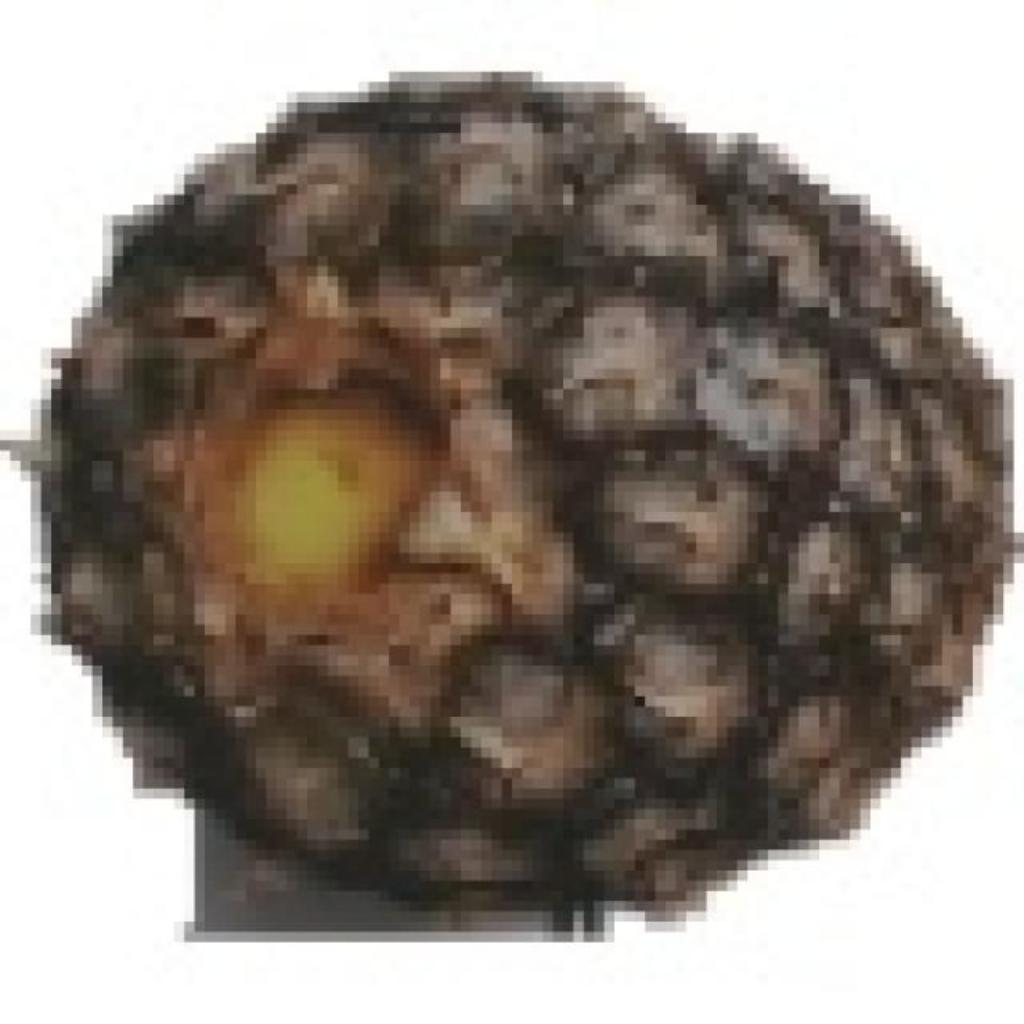pineapple: (61, 61, 1024, 911)
